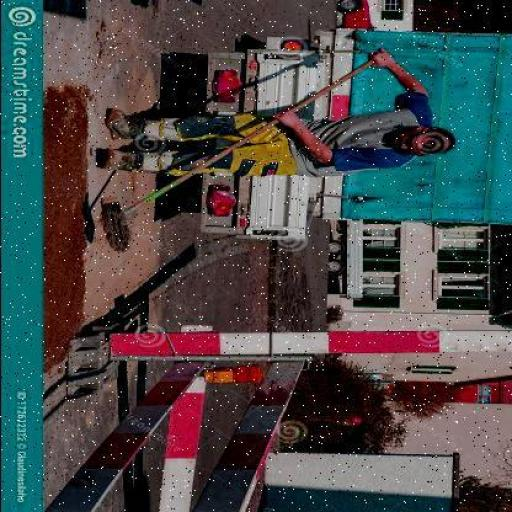person: (87, 66, 456, 179)
safety_shoe: (99, 107, 142, 143), (99, 150, 139, 176)
